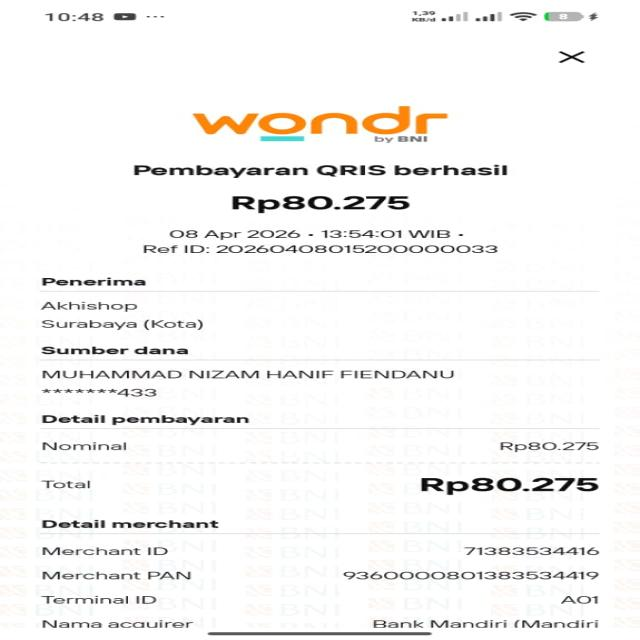date: (164, 225, 469, 242)
store: (181, 105, 492, 151)
total: (37, 471, 618, 501)
